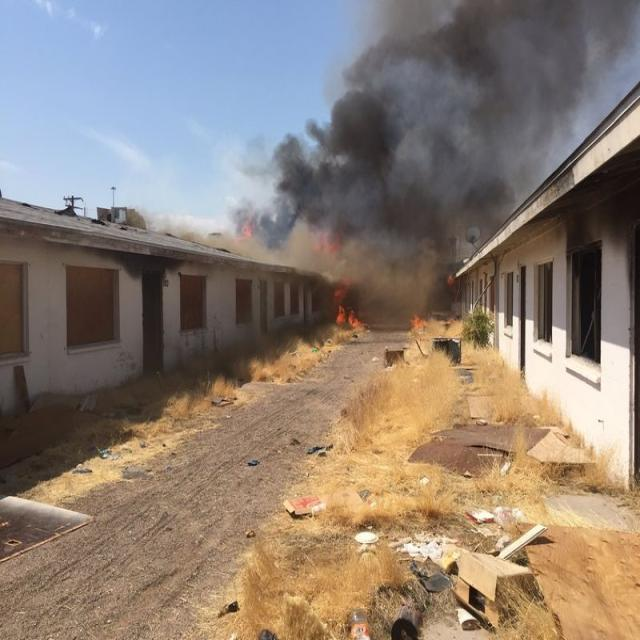Smoke: (447, 0, 597, 117), (347, 103, 434, 294)
